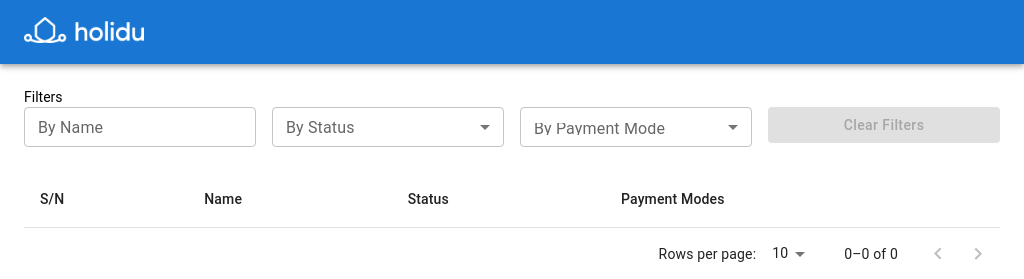
Test: Clear Filter button is enabled once filtering begins
Type "hello" into the search field labelled "By Name" at (140, 127), box [24,107,256,147]
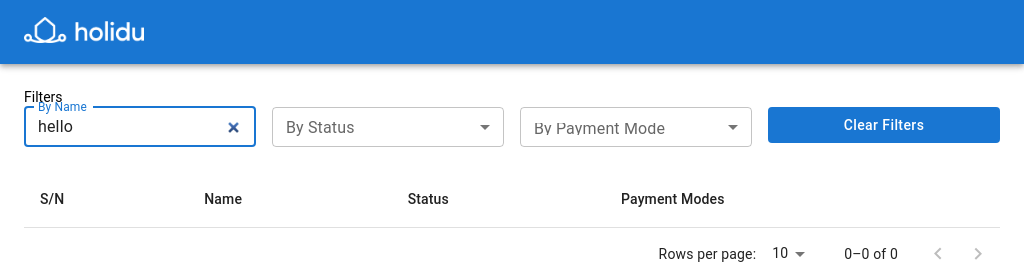
Now the button with test id "filterBtn" is enabled, box [768,107,1000,143]
